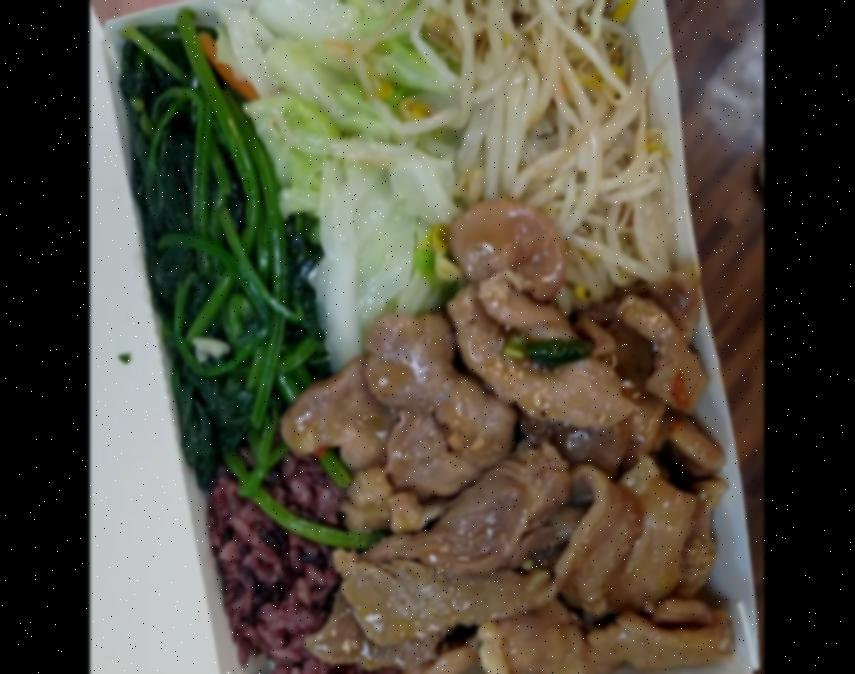box: (159, 0, 755, 674)
purple rice: (196, 320, 729, 674)
sauteed pork: (302, 260, 742, 674)
side dish: (115, 36, 338, 472), (244, 0, 460, 358), (403, 0, 664, 290)
